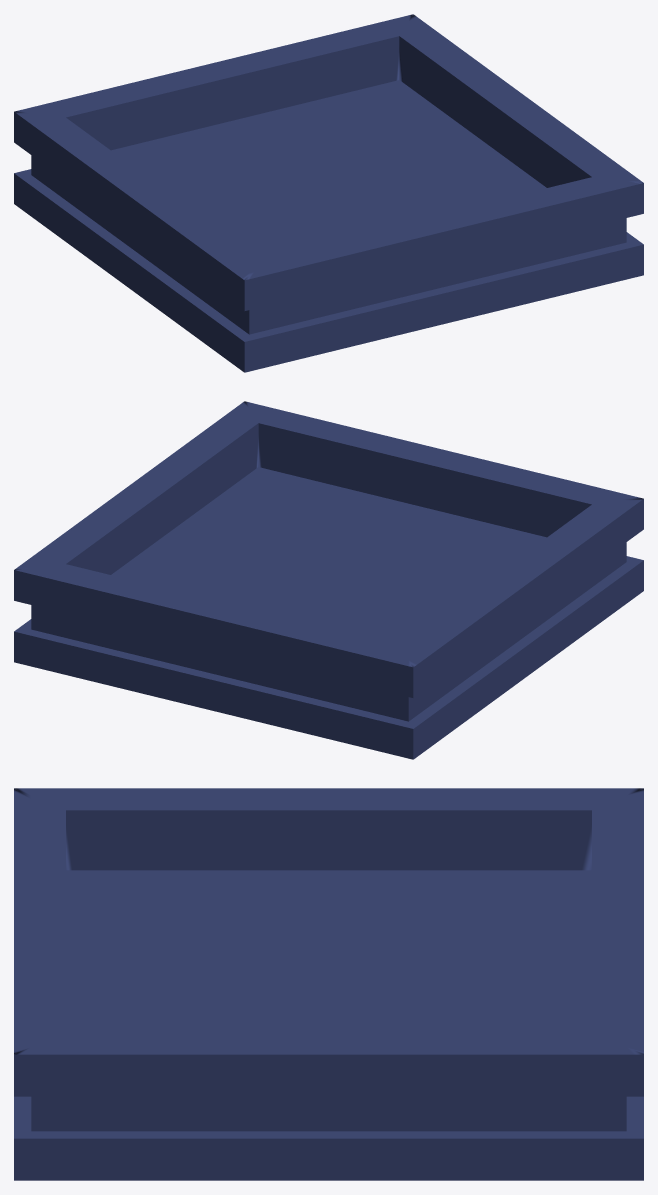
Rendered from PressurePlate_base.fbx.
3 views of the same model, one above another, from view 1: azimuth 30°, elevation 25°; view 2: azimuth 150°, elevation 25°; view 3: azimuth 270°, elevation 25° (orthographic). The views are drawn at different scales.
Parts seen in each view (by area): view 1: PressurePlate_base; view 2: PressurePlate_base; view 3: PressurePlate_base.
Boxes of the visible parts, x1,y1,x2,y2 form: PressurePlate_base: [14, 14, 643, 372]; PressurePlate_base: [14, 401, 643, 759]; PressurePlate_base: [14, 788, 643, 1180].
Size of the model in its own units: 187 by 41.42 by 187.
